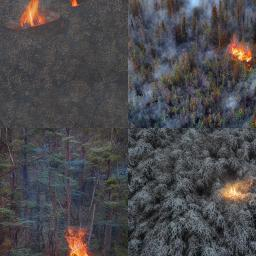Low smoke: (141, 2, 256, 110)
Small fire: (63, 227, 96, 256), (221, 180, 251, 201), (20, 1, 45, 26), (227, 39, 253, 63), (69, 0, 82, 9)
